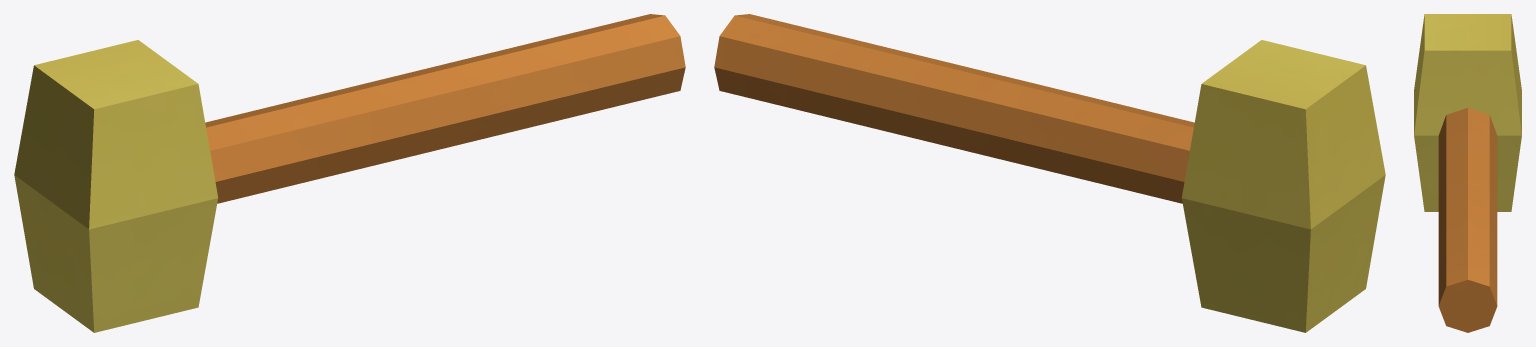
Rendered from Hammer_1.fbx.
3 renders of one model, left to right at view 1: azimuth 30°, elevation 25°; view 2: azimuth 150°, elevation 25°; view 3: azimuth 270°, elevation 25°, orthographic. The views are drawn at different scales.
Visible parts, largest first — view 1: Hammer 1; view 2: Hammer 1; view 3: Hammer 1.
Part boxes in pixels (x1,y1,x2,y2): Hammer 1: (14, 14, 685, 332); Hammer 1: (714, 14, 1385, 332); Hammer 1: (1414, 14, 1521, 332).
Bounding box in the file's own units: 55.5 × 19.32 × 11.72.
